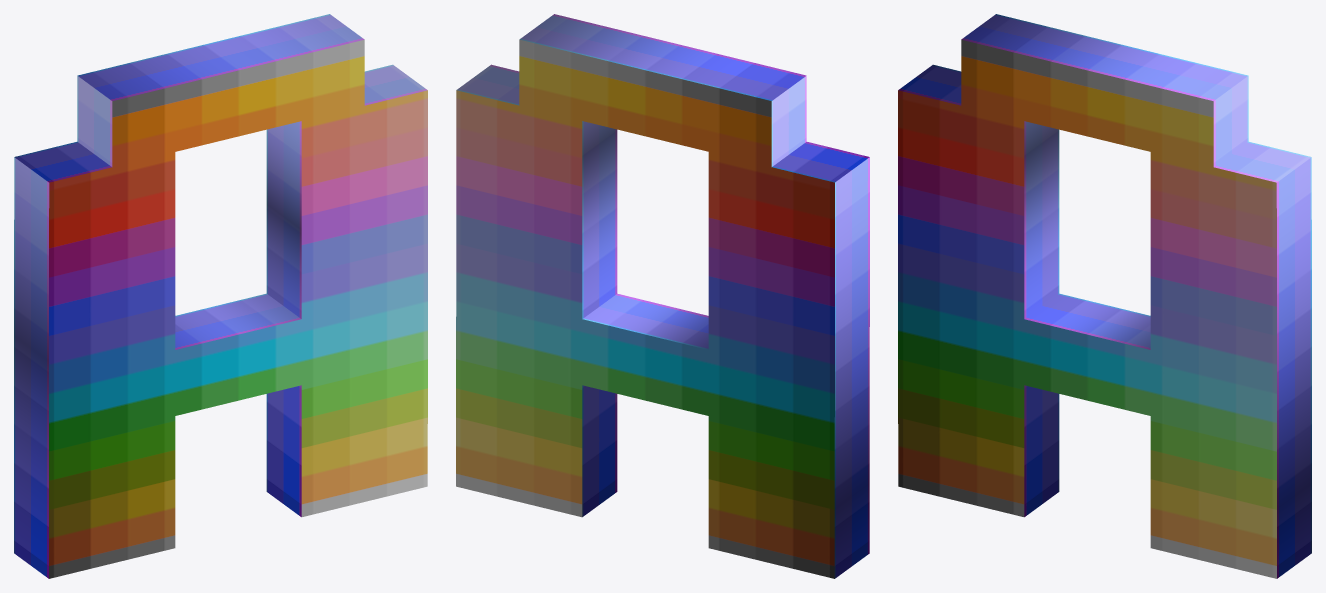
3 renders of one model, left to right at view 1: azimuth 30°, elevation 25°; view 2: azimuth 150°, elevation 25°; view 3: azimuth 330°, elevation 25°, orthographic.
Visible parts, largest first — view 1: a; view 2: a; view 3: a.
Boxes of the visible parts, x1=… form: a: x1=14, y1=14, x2=427, y2=578; a: x1=456, y1=14, x2=869, y2=578; a: x1=898, y1=14, x2=1311, y2=578.
Bounding box in the file's own units: 0.5 × 0.5834 × 0.0803.
Materials: 1 (1 with a texture image).
